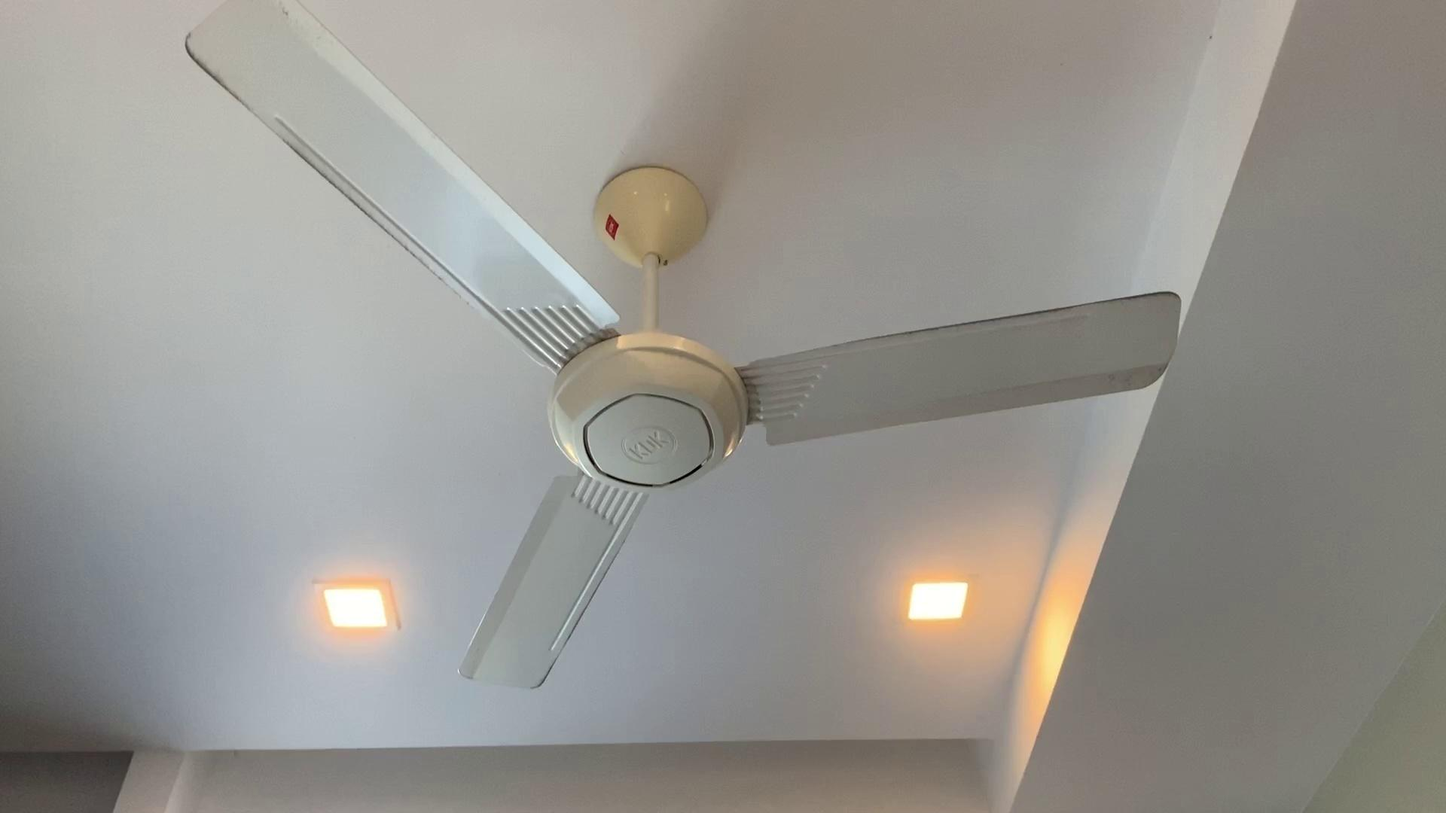fan: (192, 6, 1192, 719)
light: (302, 568, 424, 650), (890, 563, 994, 642)
